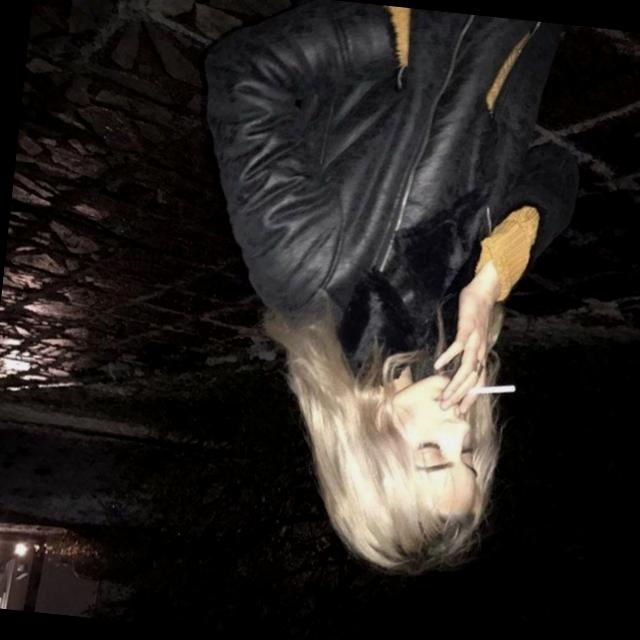cigarette: (445, 368, 533, 408)
